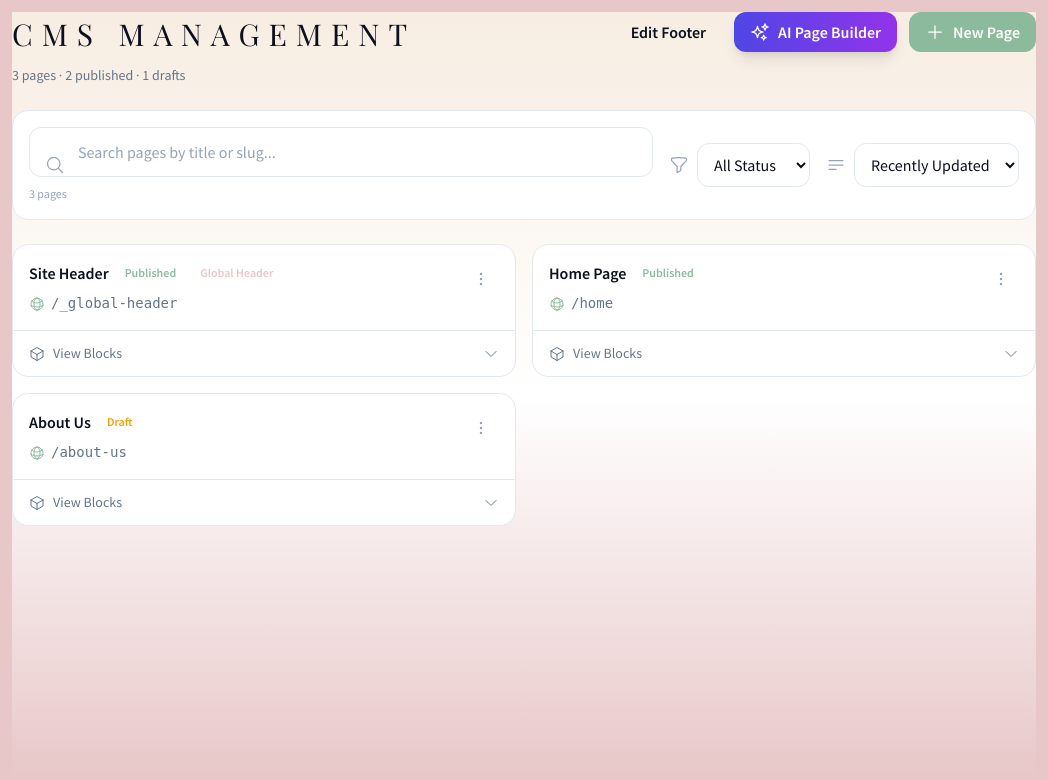
Test case: AdminCMS › Search and Filtering › filters pages by status - published
Check: the heading "Home Page" is shown, box x1=549 y1=261 x2=626 y2=285
Step 1. Select "Published" in the dropdown titled "Filter by status" → (754, 165), box x1=697 y1=143 x2=810 y2=187
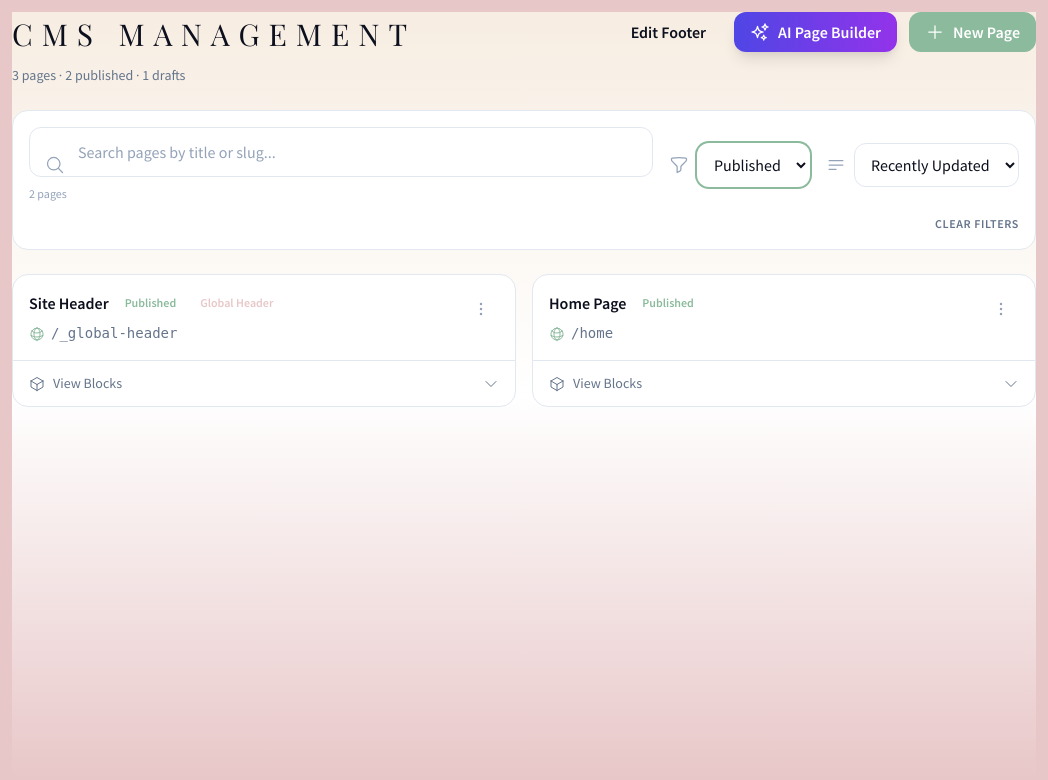
Check: the heading "Home Page" is shown, box x1=549 y1=291 x2=626 y2=315
Check: the heading "About Us" is gone
